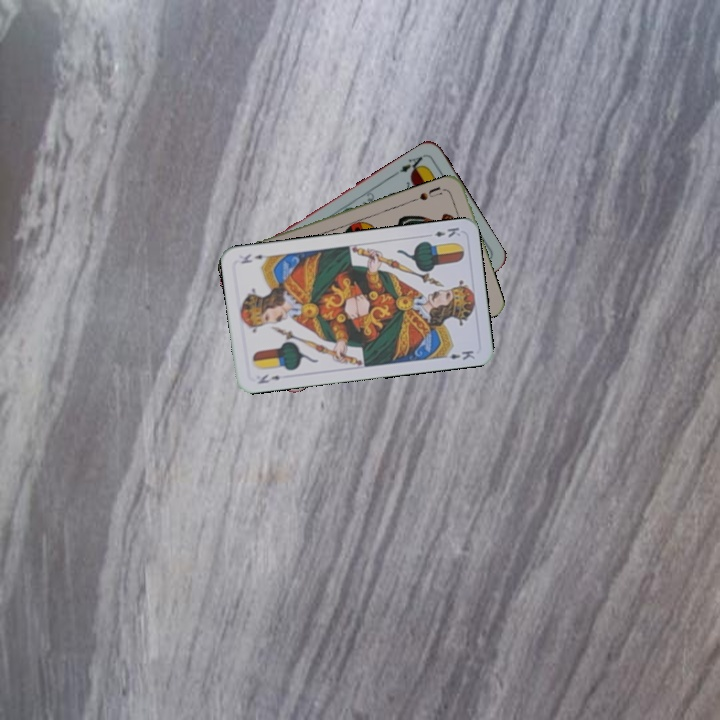EA: (391, 151, 427, 178)
EK: (431, 223, 463, 240), (254, 370, 283, 387)
SU: (415, 183, 449, 203)
